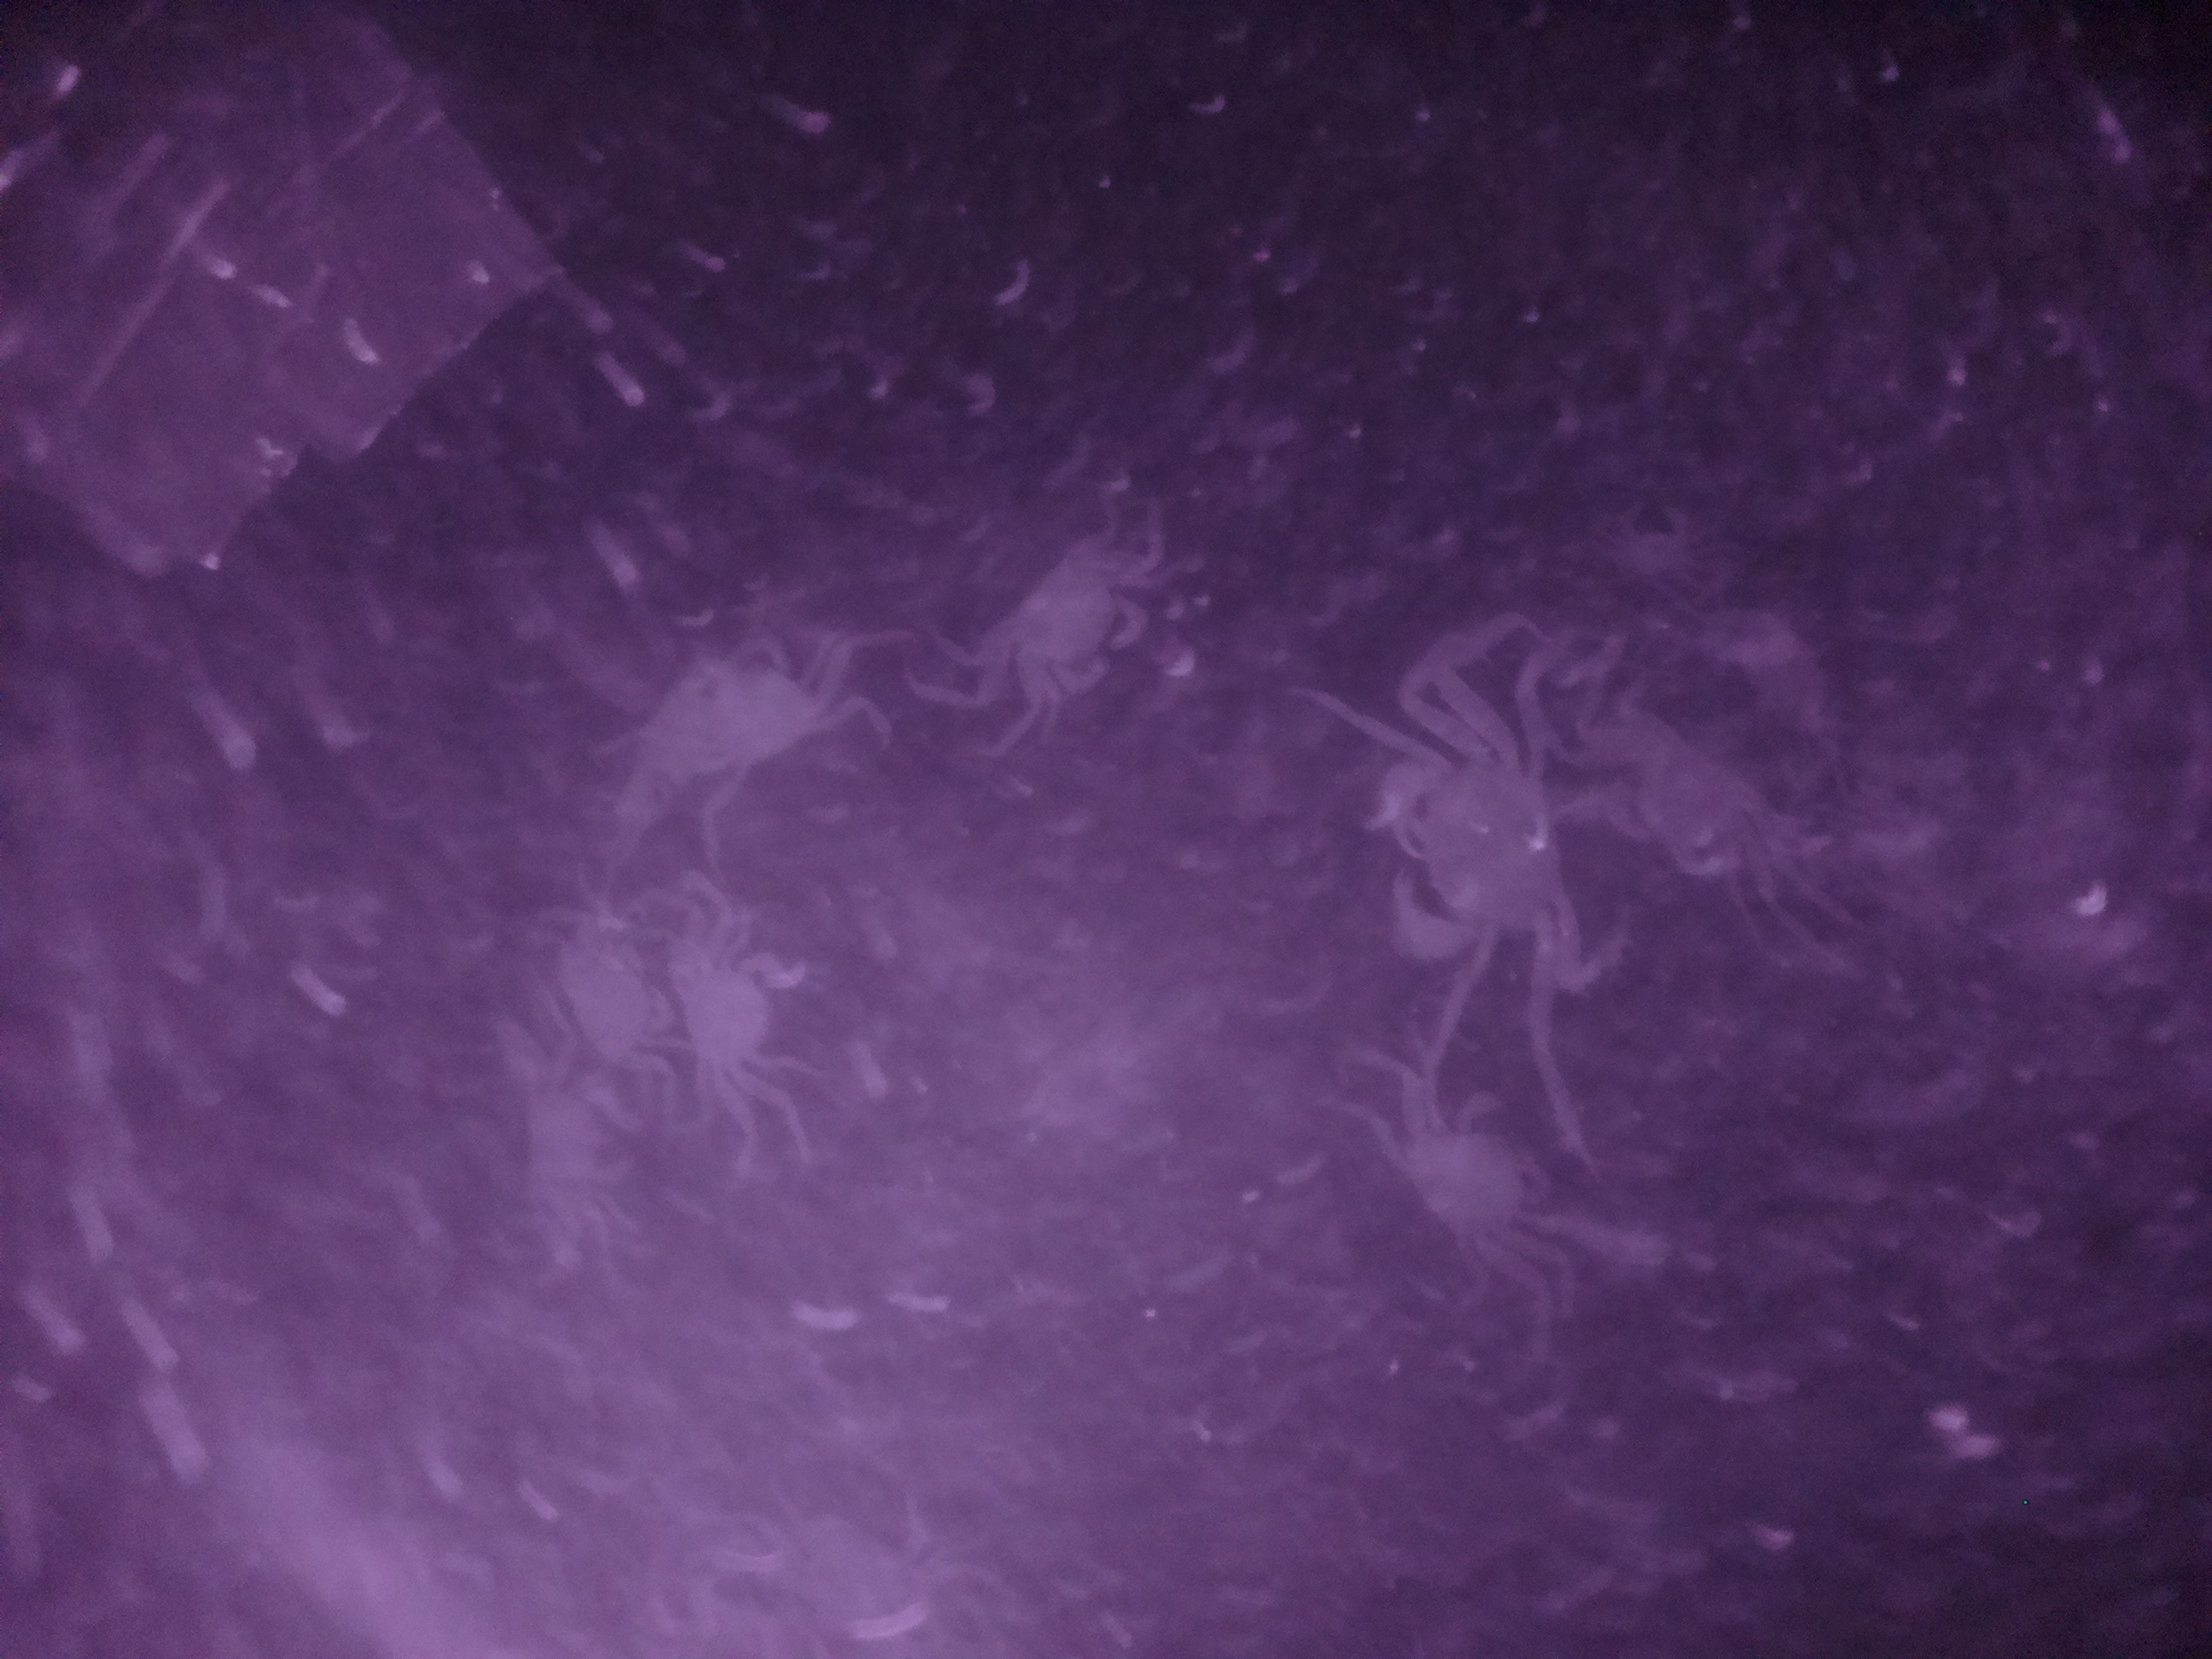Crab: (1374, 688, 1581, 988), (658, 908, 848, 1105), (989, 530, 1165, 716)
